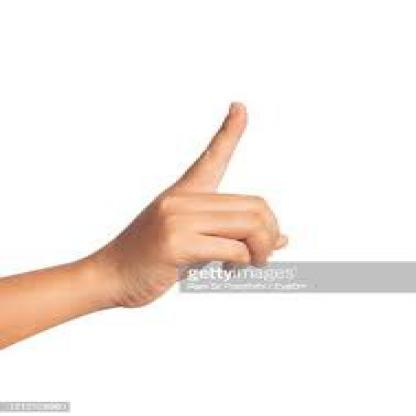Up: (121, 88, 291, 312)
